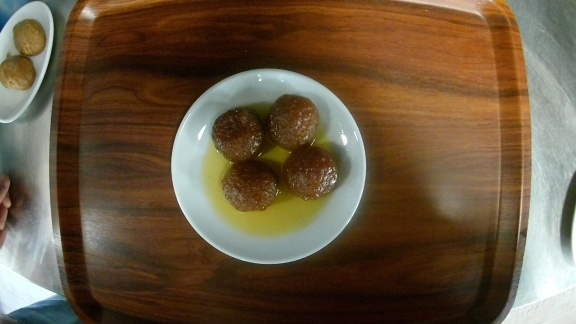kemalpasa: (170, 68, 367, 265)
